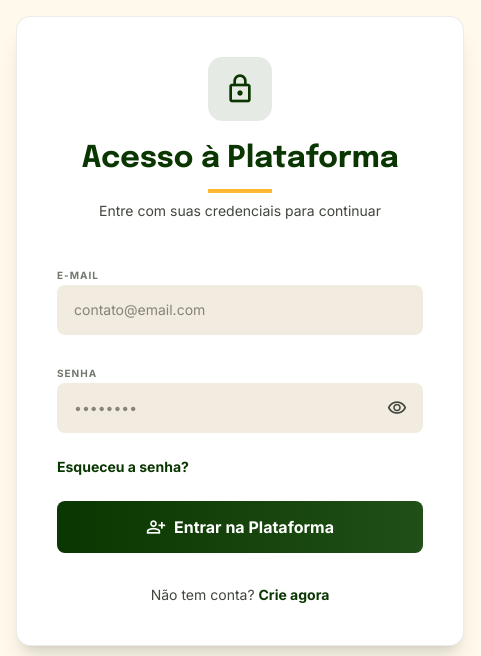
Scenario: validates credentials locally and lets the user reveal the password
The image size is (481, 656).
Click the button "Entrar na Plataforma".
click(240, 527)  # box [57,501,423,553]
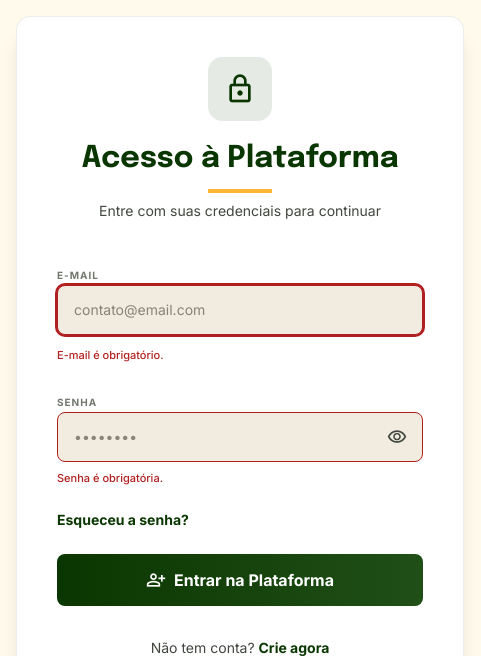
Expected: the text "E-mail é obrigatório." is shown, [57,348,164,362]
Expected: the text "Senha é obrigatória." is shown, [57,470,163,484]
Type "segredo" into the password field labelled "Senha".
click(240, 436); type("segredo")  # box [57,412,423,462]
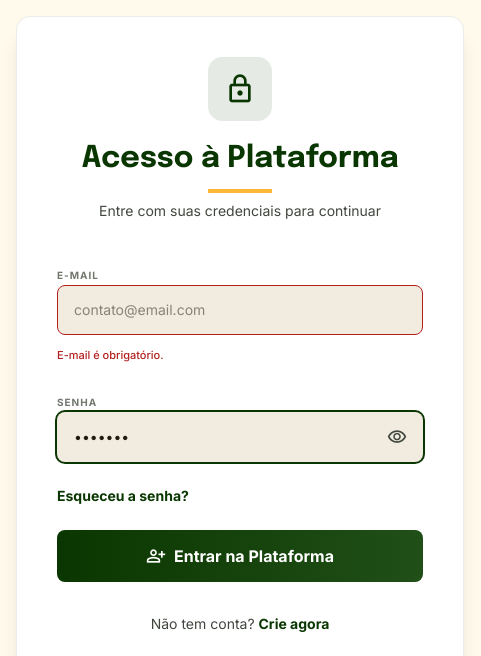
Click the button named "Mostrar senha".
click(397, 436)  # box [383,422,411,450]
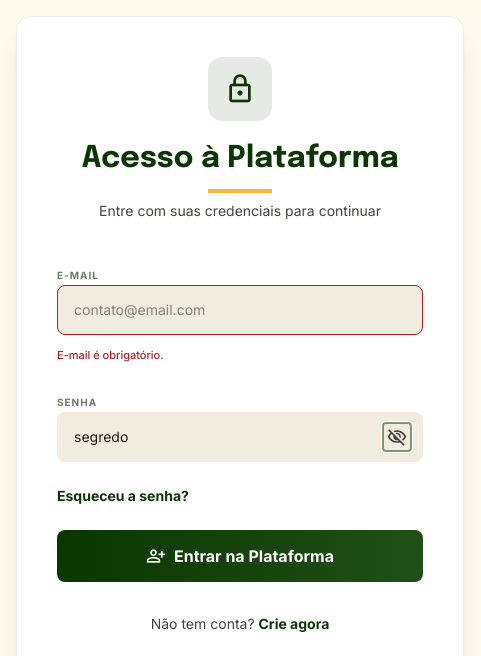
Expected: the field labelled "Senha" shows its text, [57,412,423,462]
Click the button named "Ocultar senha".
click(397, 436)  # box [383,422,411,450]
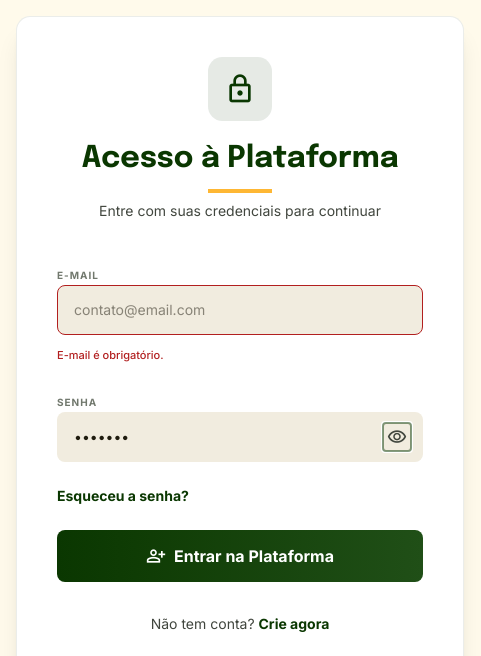
Expected: the password field labelled "Senha" hides its text, [57,412,423,462]
